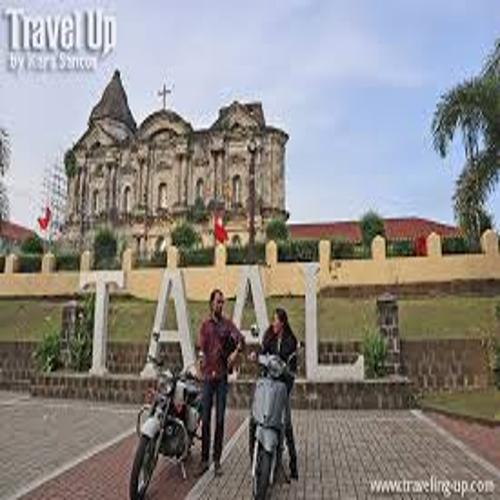Taal Basilica Church: (53, 59, 306, 260)
